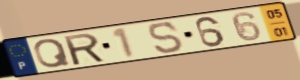1: (112, 26, 136, 60)
6: (194, 15, 227, 49), (230, 11, 264, 43)
Q: (32, 38, 73, 69)
R: (61, 32, 108, 67)
S: (147, 21, 186, 55)
